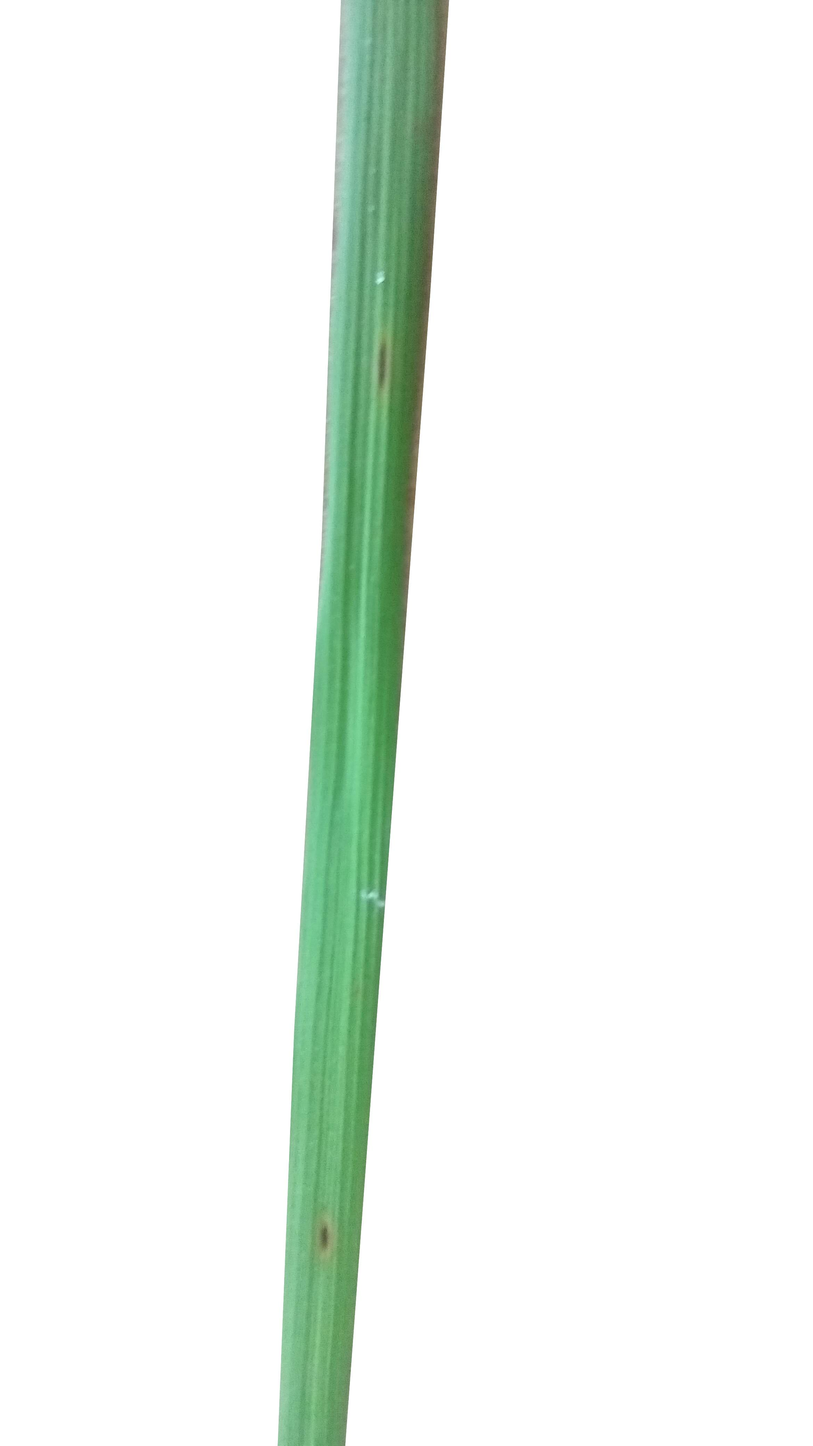Brown spot: (309, 1199, 358, 1258)
